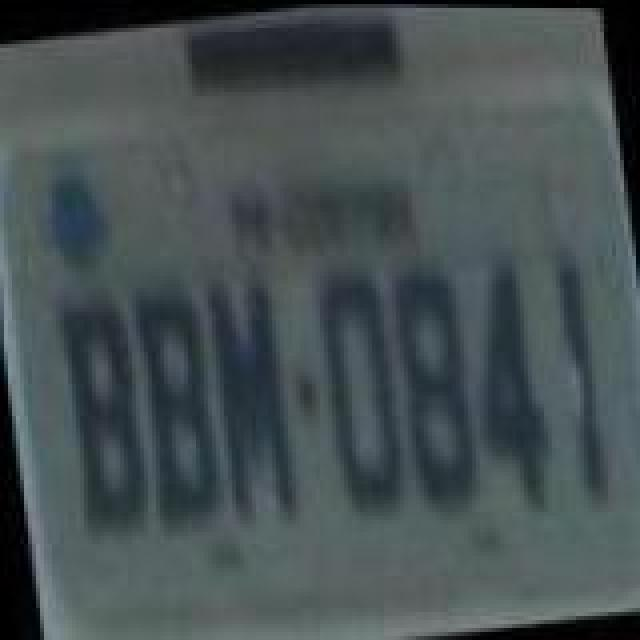1: (542, 244, 614, 504)
4: (454, 240, 558, 512)
8: (384, 256, 484, 516)
B: (52, 290, 156, 538), (120, 280, 220, 528)
M: (200, 262, 300, 530)
O: (310, 266, 414, 522)
